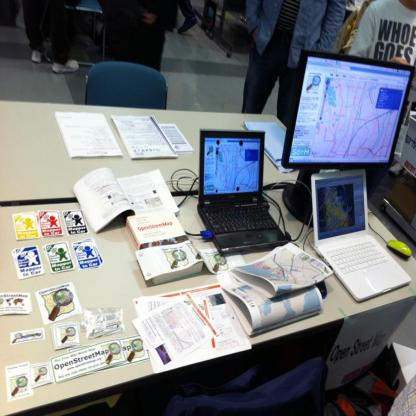board: (312, 167, 412, 302), (194, 124, 286, 253)
